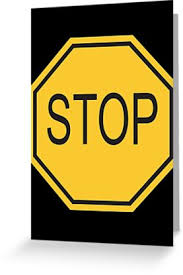Stop: (31, 24, 177, 208)
